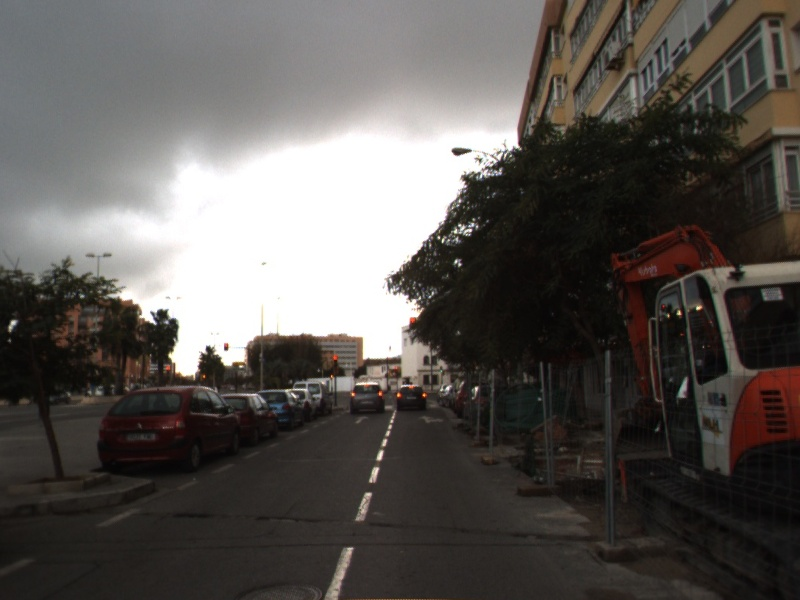STRAIGHT: (353, 413, 371, 425)
STRAIGHT_RIGHT: (416, 413, 447, 425)
